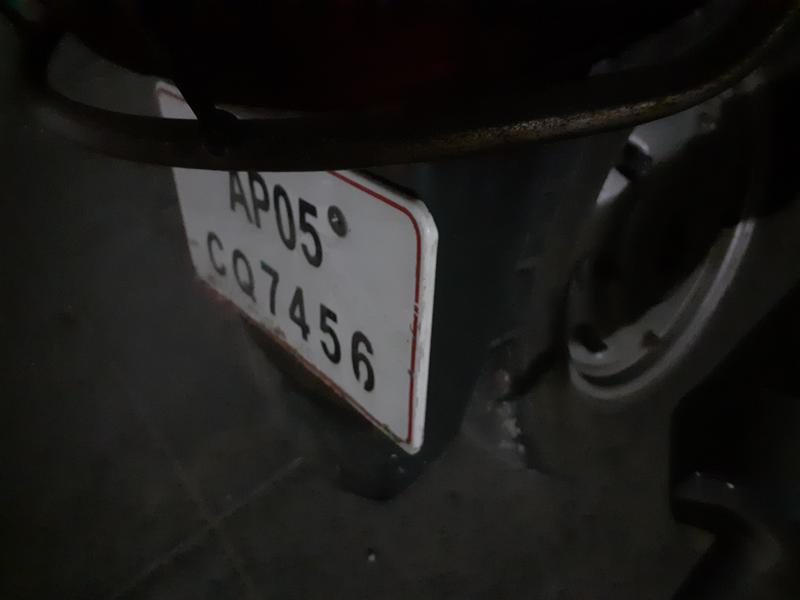numberplate: (167, 142, 438, 427)
